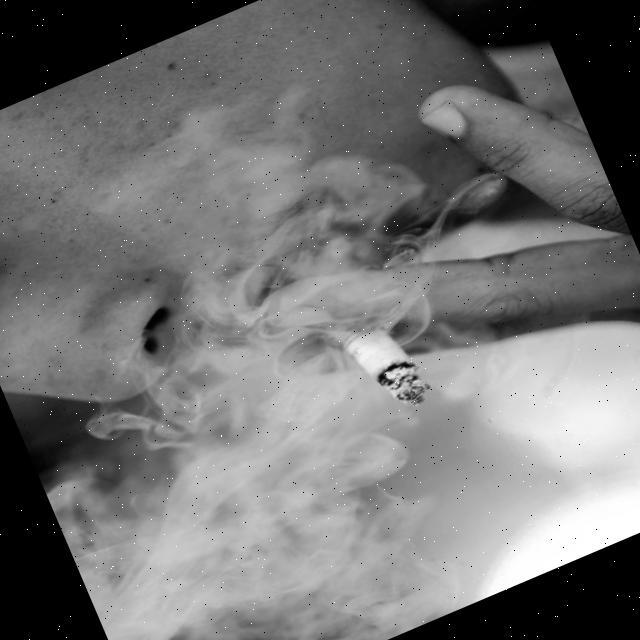cigarette: (318, 290, 451, 450)
